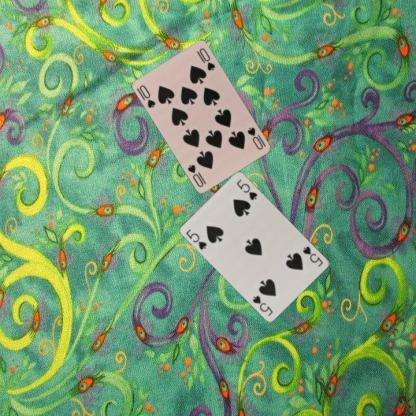10s: (245, 125, 267, 151), (137, 82, 157, 109)
5s: (184, 226, 208, 251), (301, 244, 324, 268)
